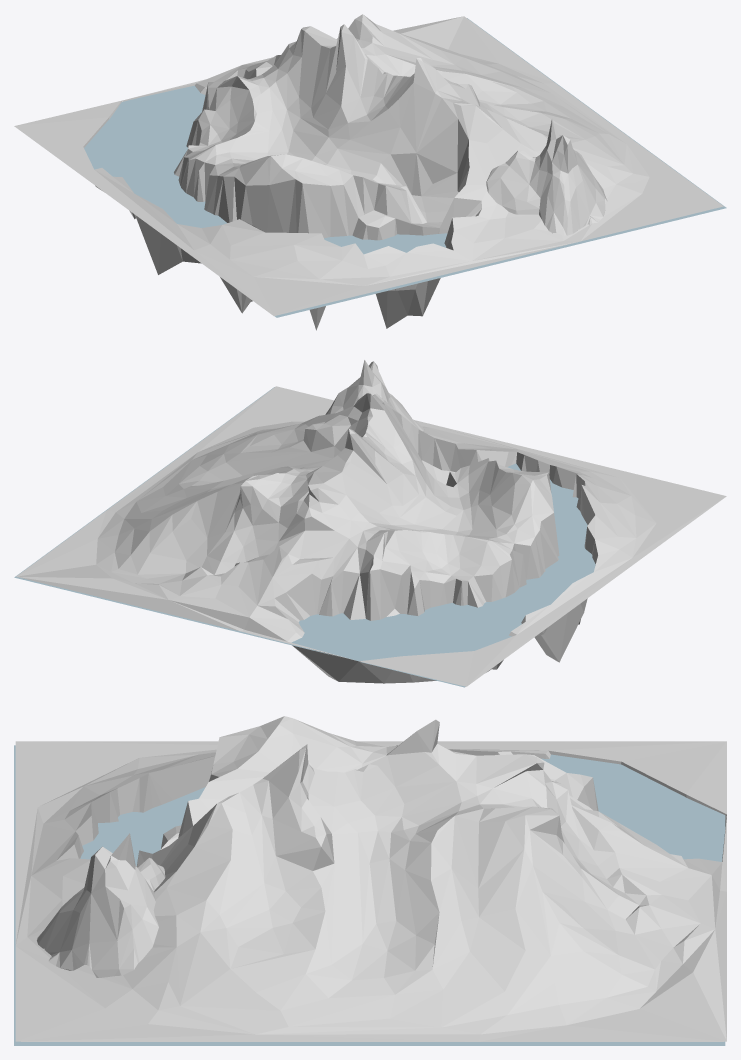
File: mountain.dae
3 views of the same model, one above another, from view 1: azimuth 30°, elevation 25°; view 2: azimuth 150°, elevation 25°; view 3: azimuth 270°, elevation 25° (orthographic). The views are drawn at different scales.
Visible parts, largest first — view 1: Landscape.004, Plane.001; view 2: Landscape.004, Plane.001; view 3: Landscape.004, Plane.001.
Boxes of the visible parts, x1,y1,x2,y2 form: Landscape.004: [14, 14, 723, 330]; Plane.001: [84, 18, 726, 317]; Landscape.004: [16, 360, 726, 686]; Plane.001: [14, 387, 595, 687]; Landscape.004: [15, 716, 726, 1041]; Plane.001: [14, 745, 725, 1045].
Bounding box in the file's own units: 2.01 × 2 × 0.9016.
